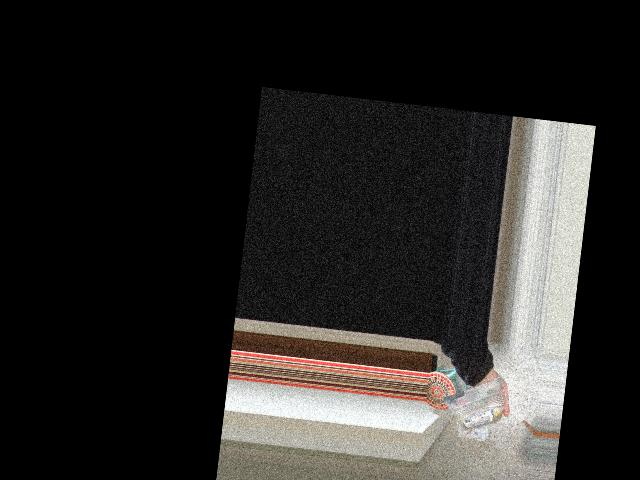cheese: (459, 381, 494, 448)
